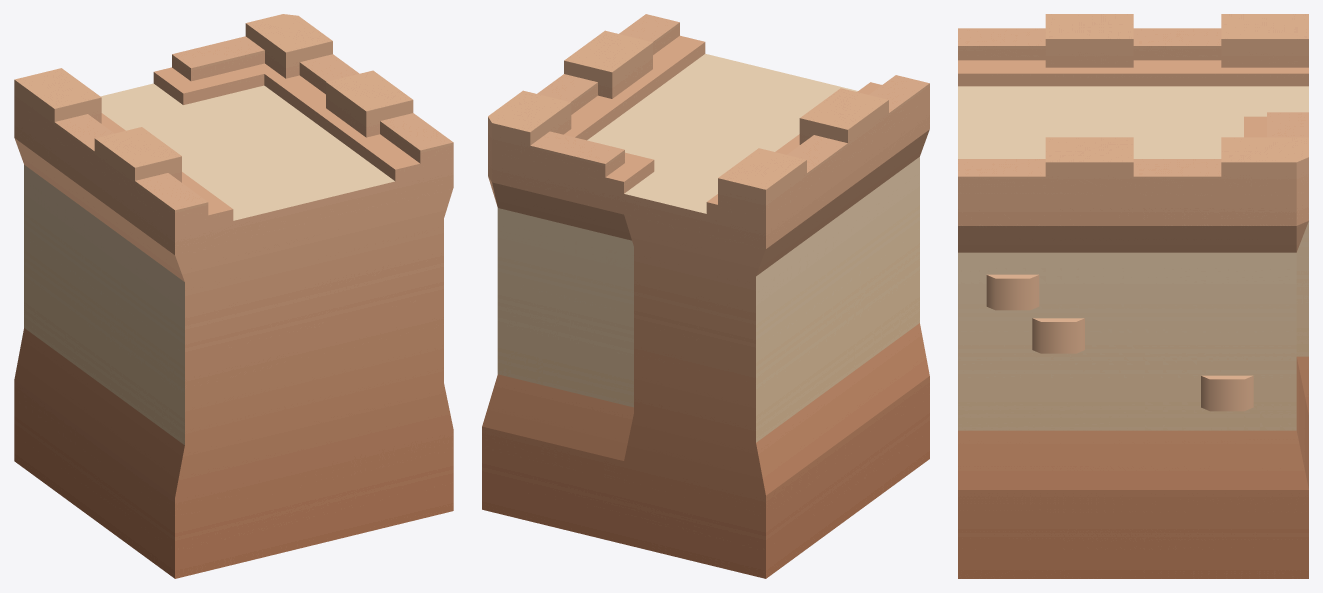
The model's file is wall-to-narrow.glb.
3 renders of one model, left to right at view 1: azimuth 30°, elevation 25°; view 2: azimuth 150°, elevation 25°; view 3: azimuth 270°, elevation 25°, orthographic. The views are drawn at different scales.
Parts seen in each view (by area): view 1: wall-to-narrow; view 2: wall-to-narrow; view 3: wall-to-narrow.
Part boxes in pixels (<box>): wall-to-narrow: <box>14,14,453,578</box>; wall-to-narrow: <box>482,14,929,578</box>; wall-to-narrow: <box>958,14,1308,578</box>.
Size of the model in its own units: 1 by 1.31 by 1.
1 material, 1 textured.
